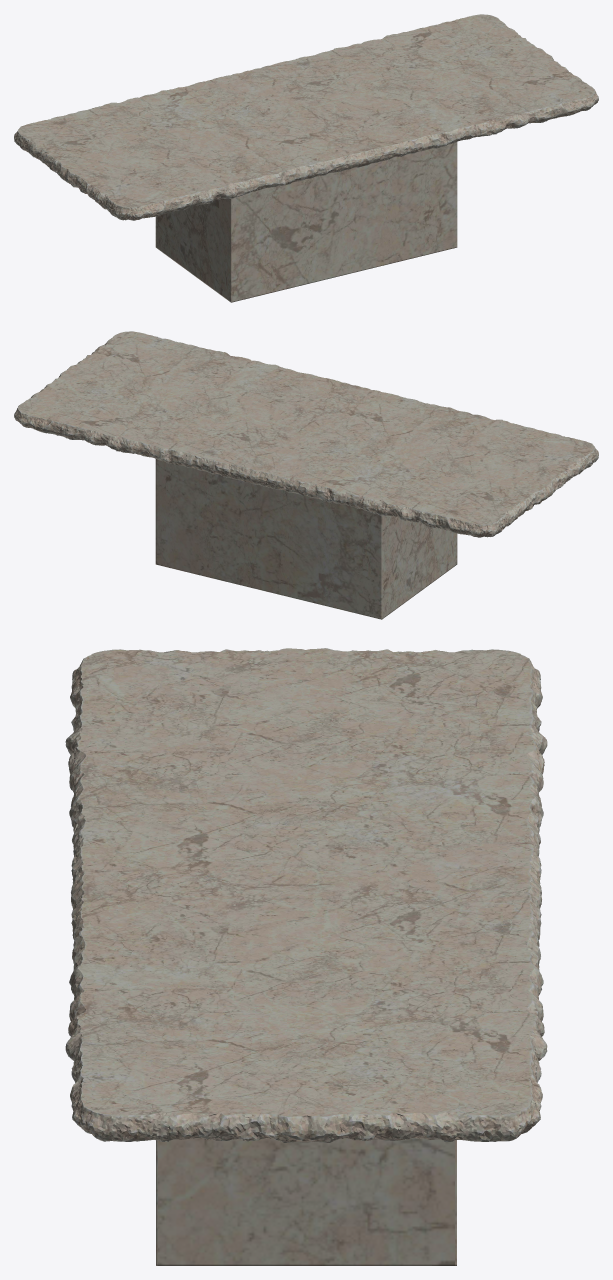
The picture shows the model from 3 angles, top to bottom: view 1: azimuth 30°, elevation 25°; view 2: azimuth 150°, elevation 25°; view 3: azimuth 270°, elevation 25°; orthographic projection. The views are drawn at different scales.
Parts seen in each view (by area): view 1: diningtable13269; view 2: diningtable13269; view 3: diningtable13269.
Part boxes in pixels (bbox=[...]): diningtable13269: bbox=[14, 14, 598, 302]; diningtable13269: bbox=[14, 331, 598, 619]; diningtable13269: bbox=[65, 648, 547, 1265].
Size of the model in its own units: 1.42 by 0.381 by 0.6096.
1 material, 1 textured.
